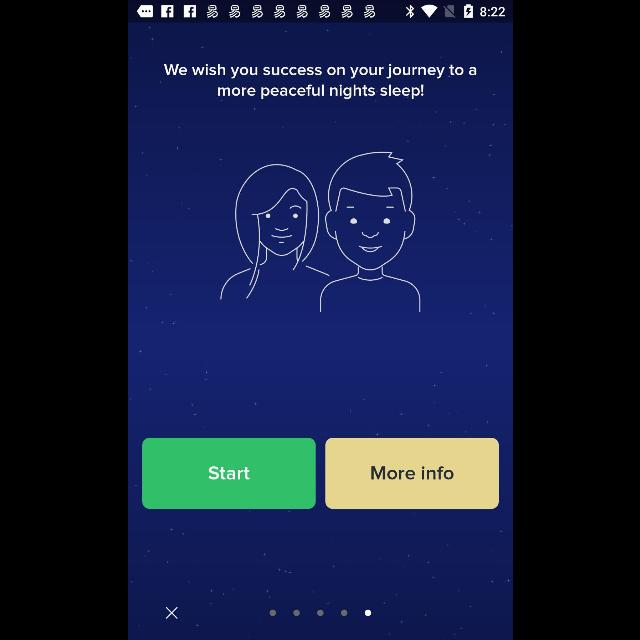icon: (165, 606, 178, 620)
image: (218, 152, 420, 312)
pageindicator: (268, 609, 370, 617)
text: (162, 64, 476, 100)
textbutton: (324, 438, 498, 509), (141, 438, 315, 508)
uppertaskbar: (128, 1, 512, 23)
